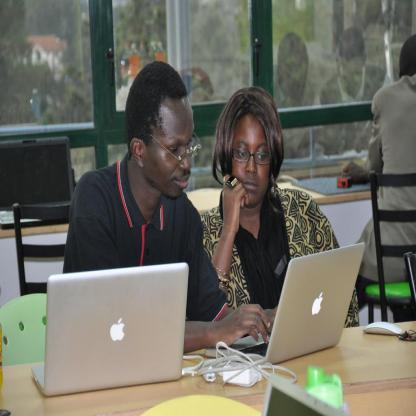board: (32, 261, 189, 398), (206, 244, 366, 355), (1, 138, 74, 228), (261, 372, 348, 416)
